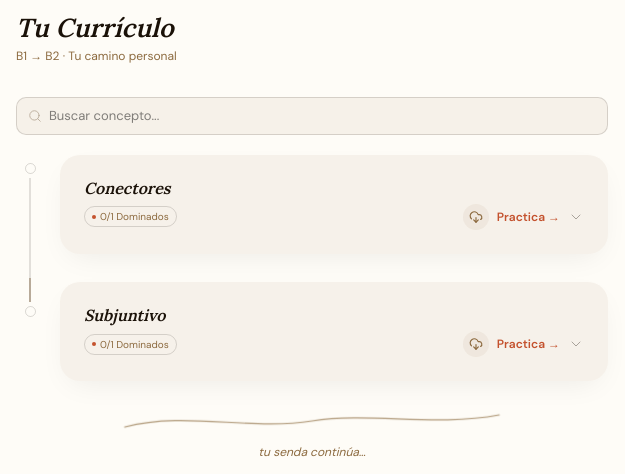
Test case: CurriculumClient › clears search when X button is clicked
Type "Sin" into the field labelled "Buscar concepto" at x=312, y=116, box [16,97,608,135]
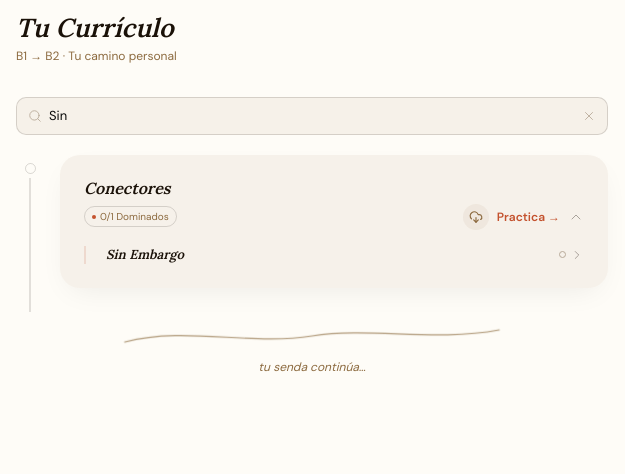
Click the button named "Limpiar búsqueda" at x=589, y=116, box [578,105,600,127]
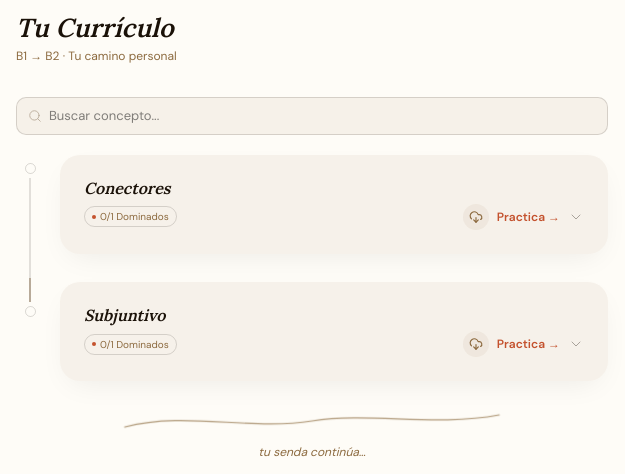
Expected: the field labelled "Buscar concepto" is empty, [16,97,608,135]
